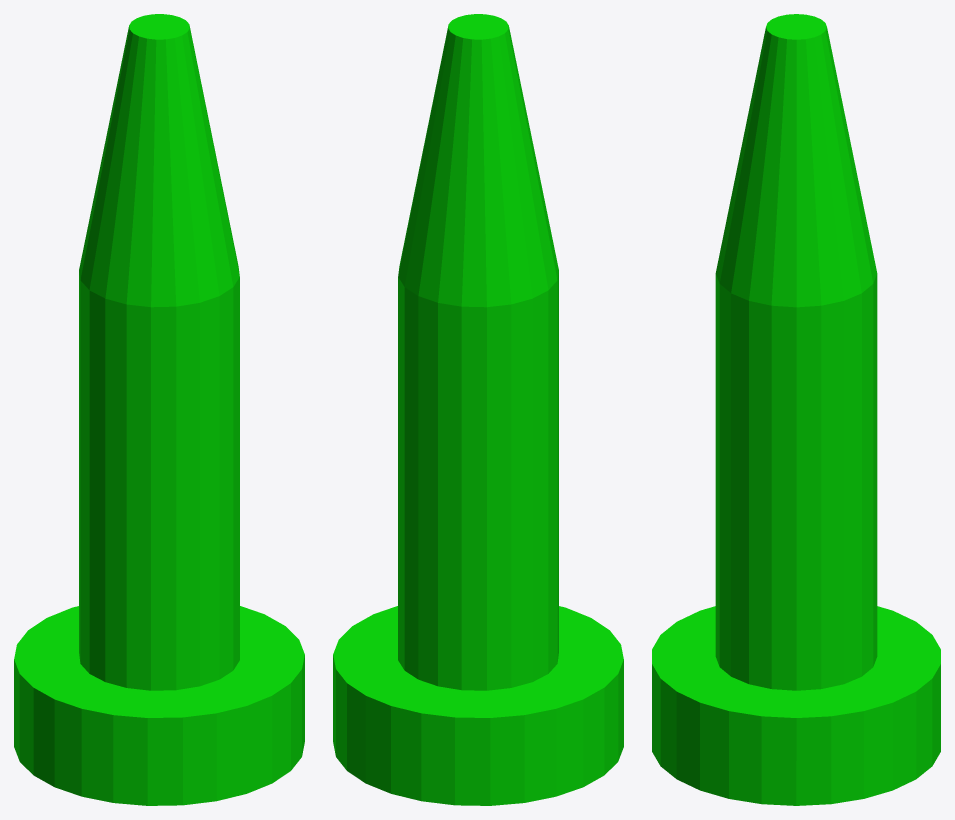
The model's file is green_marker_nun.dae.
3 views of the same model, side by side, from view 1: azimuth 30°, elevation 25°; view 2: azimuth 150°, elevation 25°; view 3: azimuth 270°, elevation 25° (orthographic).
Parts seen in each view (by area): view 1: ShapeIndexedFaceSet_001; view 2: ShapeIndexedFaceSet_001; view 3: ShapeIndexedFaceSet_001.
Boxes of the visible parts, box(x1,y1,x2,y2) form: ShapeIndexedFaceSet_001: box(14, 14, 304, 805); ShapeIndexedFaceSet_001: box(333, 14, 623, 805); ShapeIndexedFaceSet_001: box(652, 14, 940, 805).
Bounding box in the file's own units: 0.4572 × 0.4539 × 1.24.
